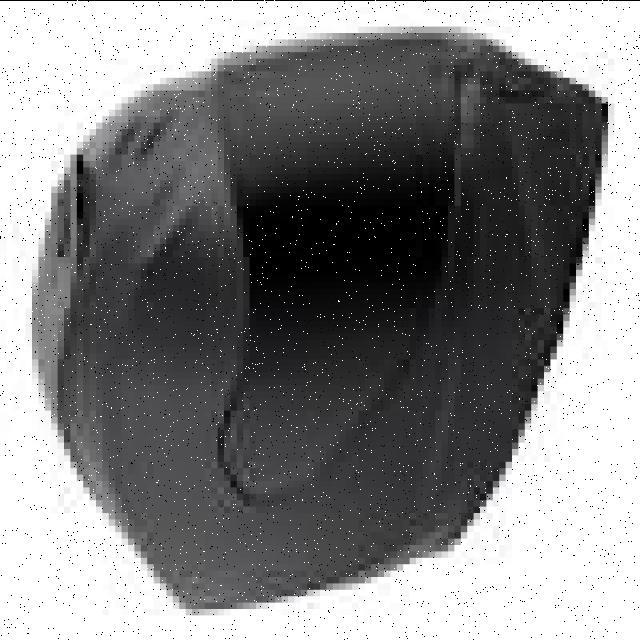Helmet: (34, 35, 603, 605)
